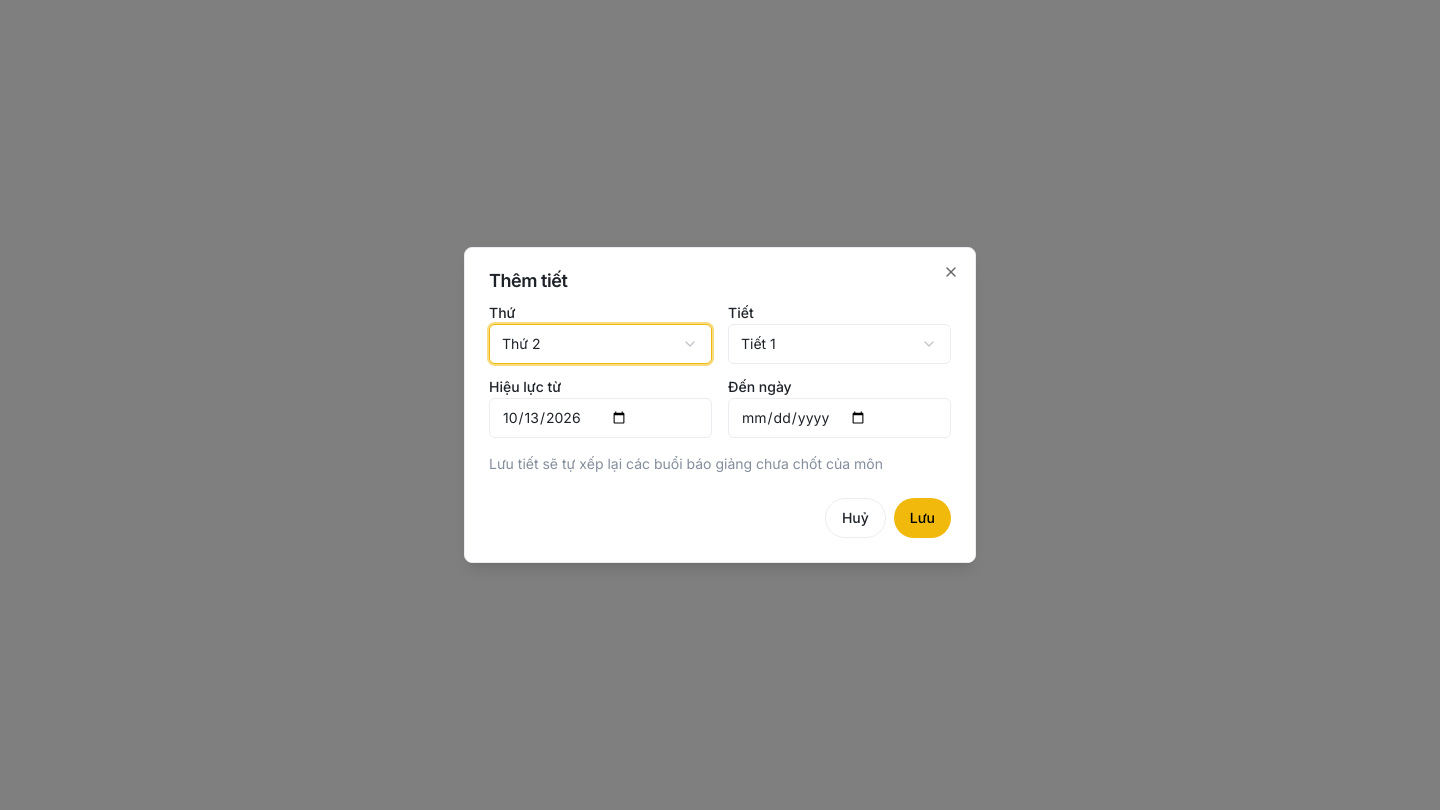
lỗi từ backend › 409 "Bạn đã có tiết khác vào thời điểm này" hiện nguyên văn, hộp thoại KHÔNG đóng và nút Lưu bấm lại được
Type "2026-01-05" into the date field labelled "Hiệu lực từ" at (600, 418), box [489, 398, 712, 438]
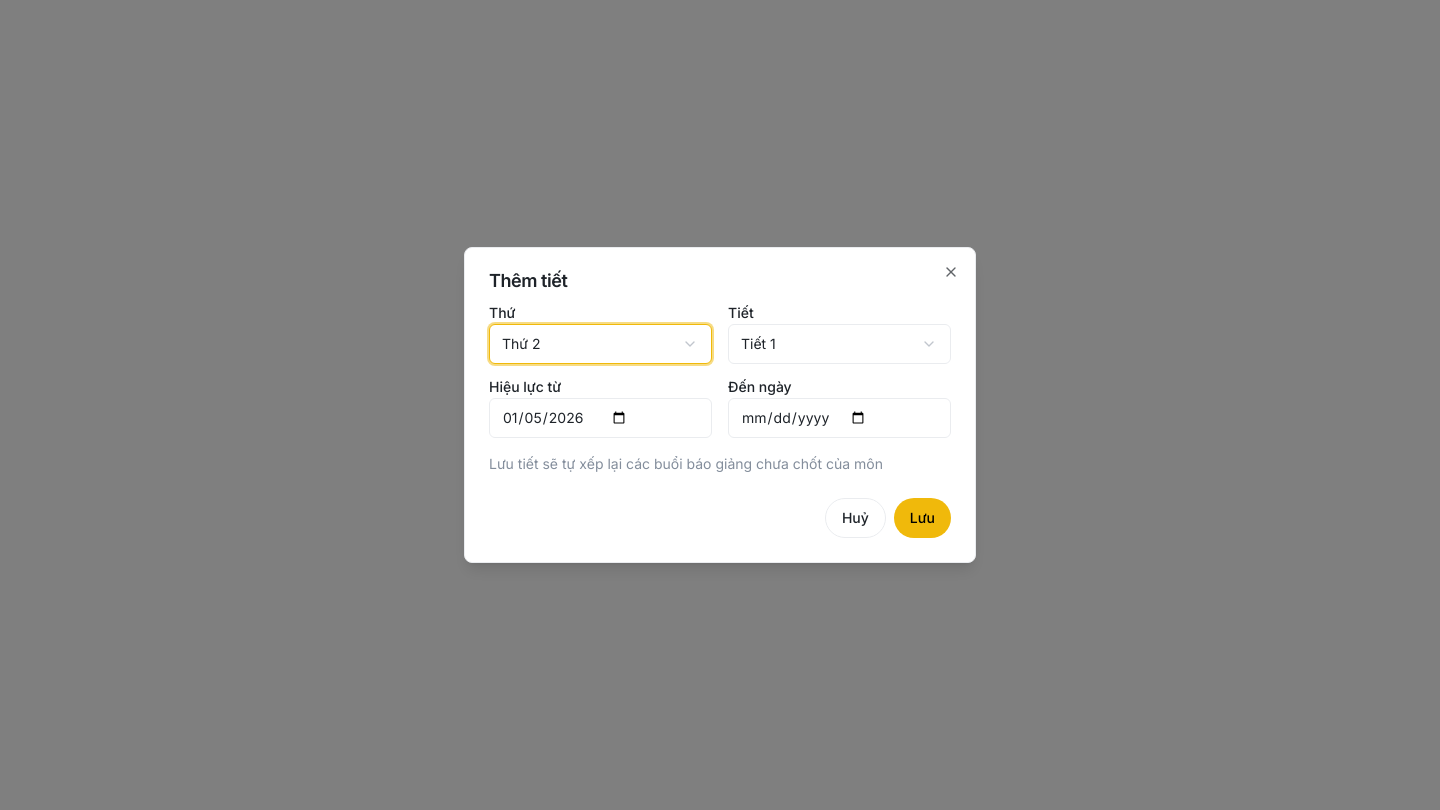
Click the button "Lưu" at (922, 518), box [894, 498, 951, 538]
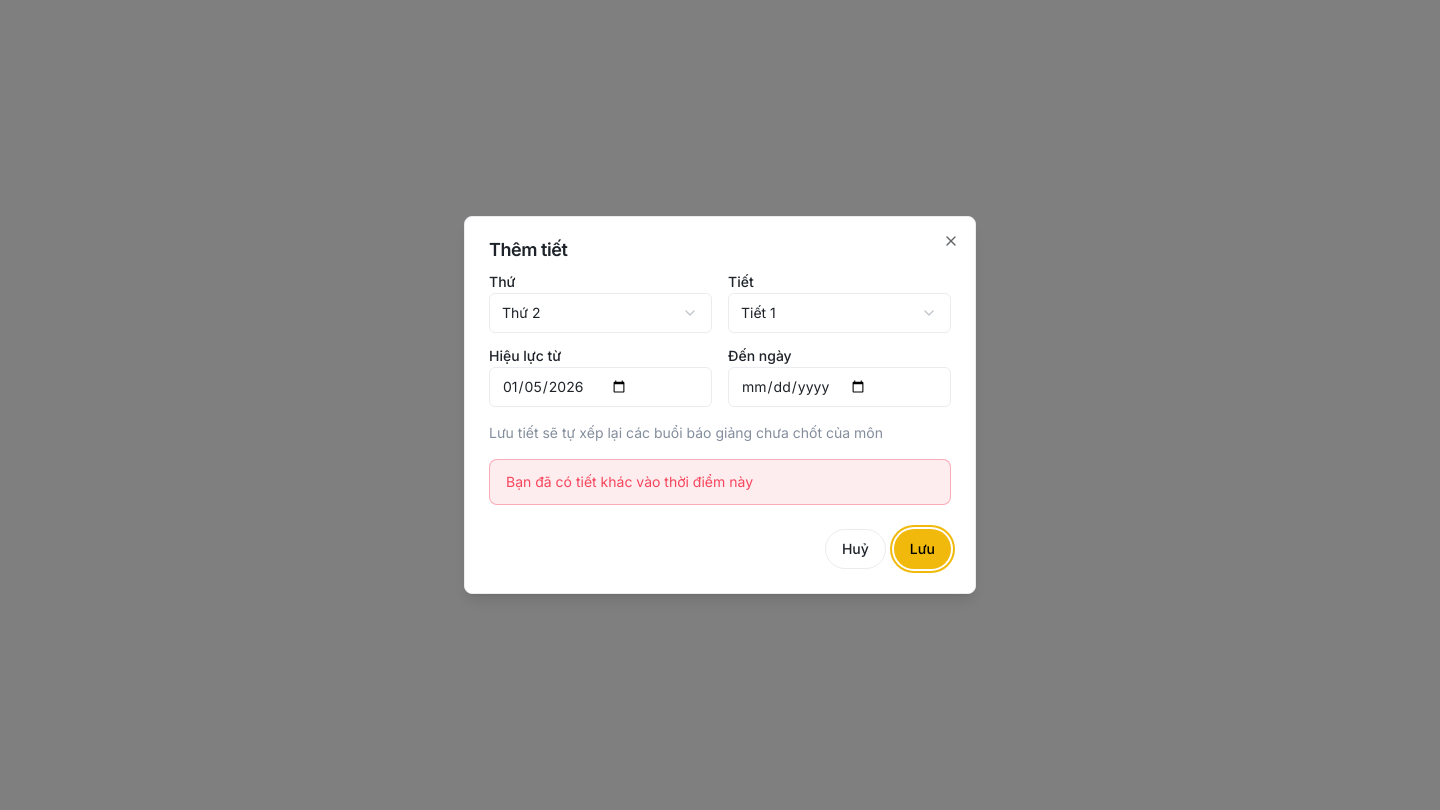
Expected: the button "Lưu" is enabled, [894, 529, 951, 569]
Expected: the message reads "Bạn đã có tiết khác vào thời điểm này", [506, 473, 753, 490]
